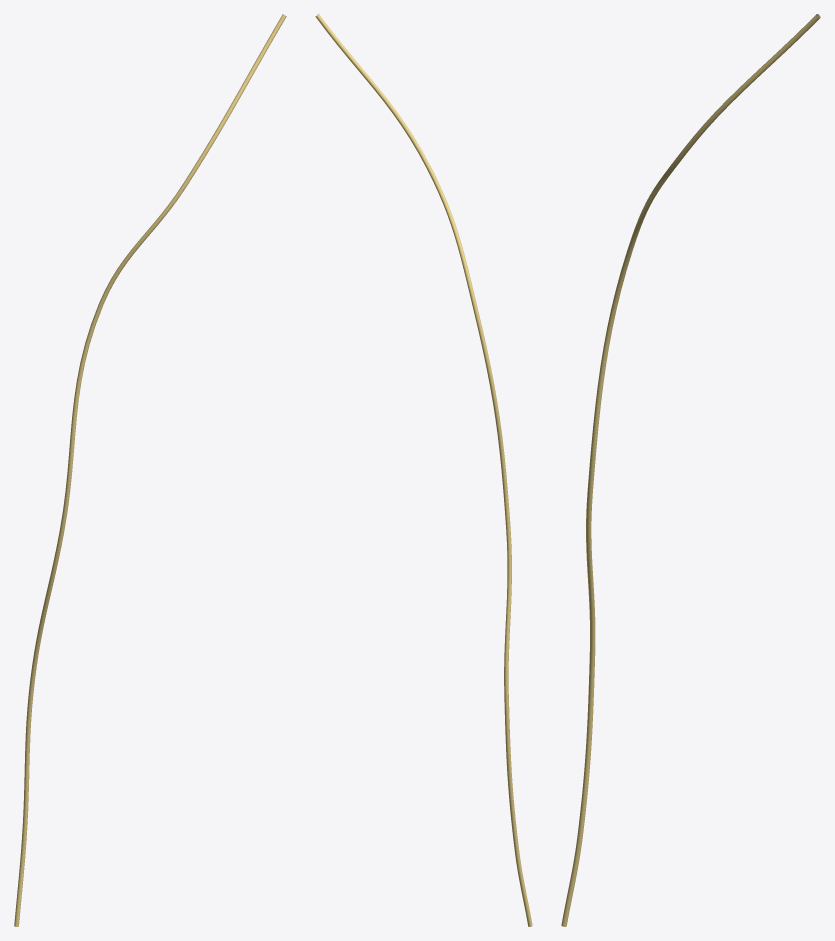
The picture shows the model from 3 angles, left to right: view 1: azimuth 30°, elevation 25°; view 2: azimuth 150°, elevation 25°; view 3: azimuth 330°, elevation 25°; orthographic projection. The views are drawn at different scales.
Parts seen in each view (by area): view 1: ZA_f6d10d6eac0a7cfb; view 2: ZA_f6d10d6eac0a7cfb; view 3: ZA_f6d10d6eac0a7cfb.
Boxes of the visible parts, x1,y1,x2,y2 form: ZA_f6d10d6eac0a7cfb: [14, 14, 286, 926]; ZA_f6d10d6eac0a7cfb: [315, 14, 532, 926]; ZA_f6d10d6eac0a7cfb: [561, 14, 820, 926].
Bounding box in the file's own units: 0.0608 × 0.2036 × 0.017.
